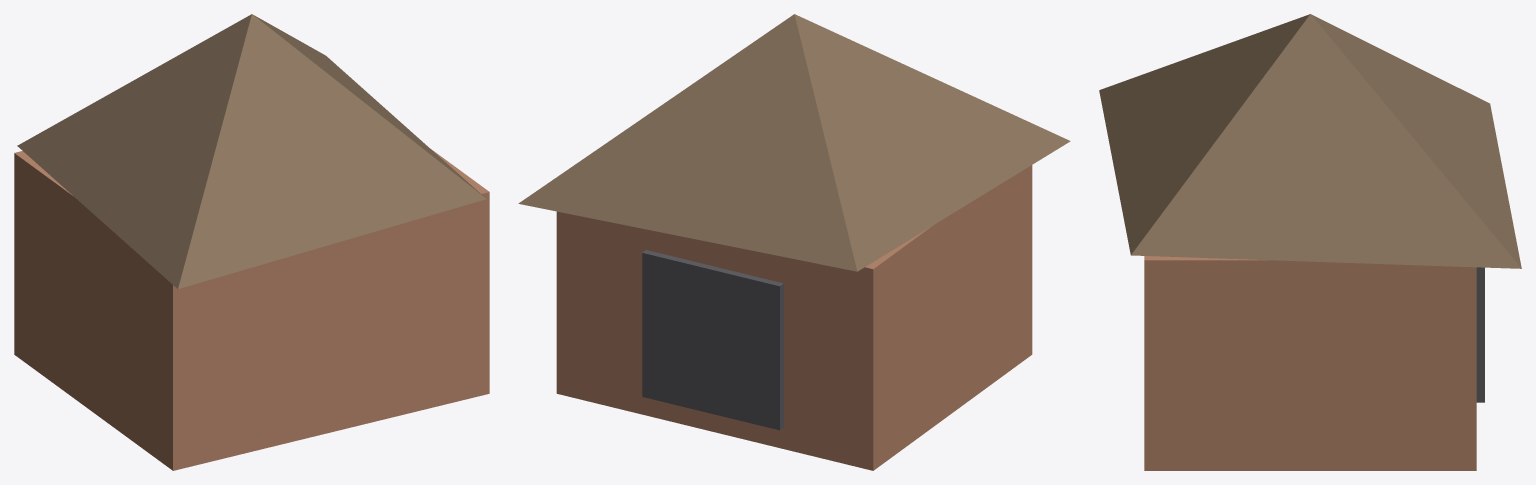
The model's file is pets_casinha.glb.
3 renders of one model, left to right at view 1: azimuth 30°, elevation 25°; view 2: azimuth 150°, elevation 25°; view 3: azimuth 270°, elevation 25°, orthographic. The views are drawn at different scales.
Visible parts, largest first — view 1: PETS_CASINHA_v01; view 2: PETS_CASINHA_v01; view 3: PETS_CASINHA_v01.
Boxes of the visible parts, left/top/right/bottom form: PETS_CASINHA_v01: left=14, top=14, right=489, bottom=470; PETS_CASINHA_v01: left=518, top=14, right=1070, bottom=470; PETS_CASINHA_v01: left=1099, top=14, right=1521, bottom=470.
Size of the model in its own units: 0.5091 by 0.5 by 0.5091.
